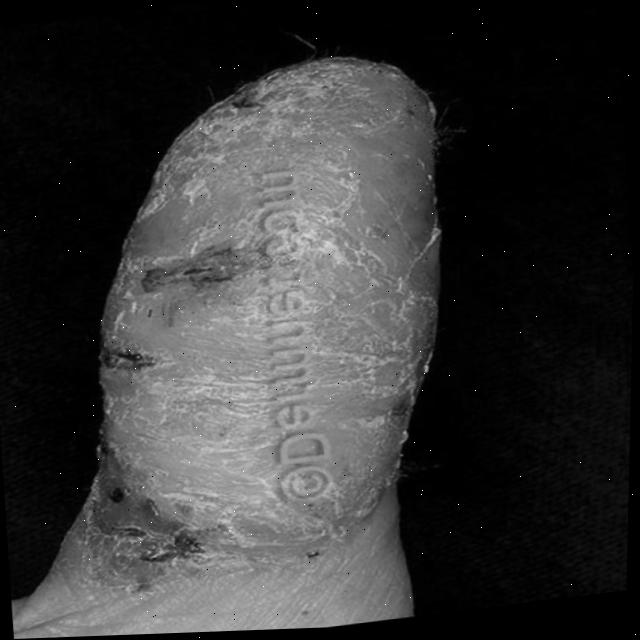Eczema: (120, 83, 417, 570)
